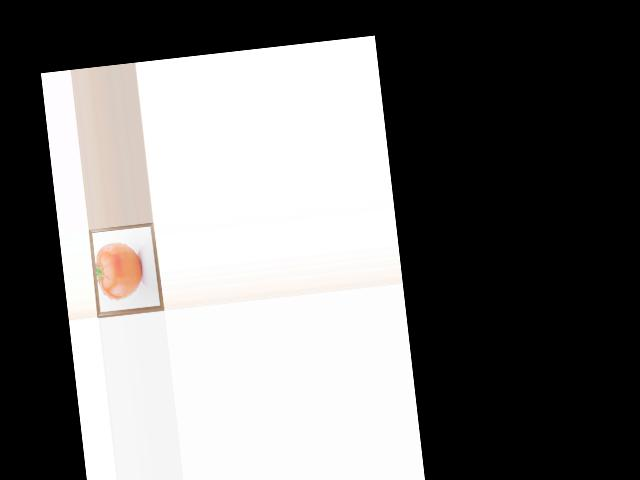tomato: (93, 240, 145, 302)
